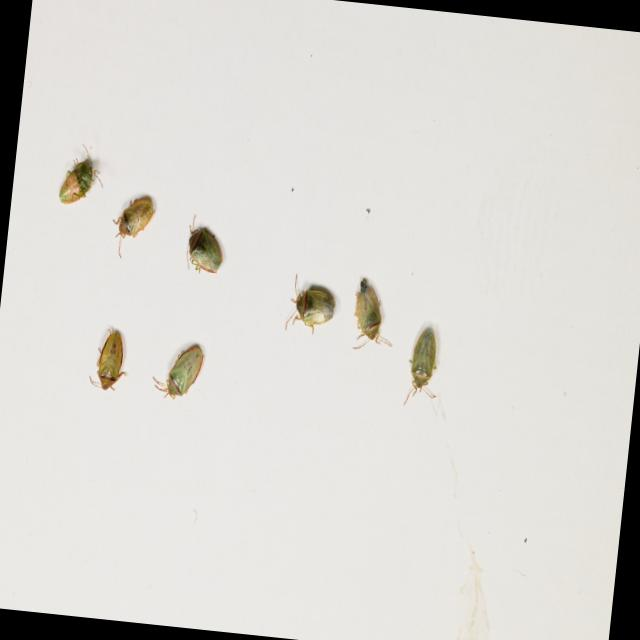stinkbug: (348, 276, 401, 355), (282, 270, 339, 340), (150, 336, 204, 406), (402, 322, 444, 411), (108, 189, 157, 263), (56, 140, 107, 209), (86, 326, 132, 400), (181, 208, 228, 276)
